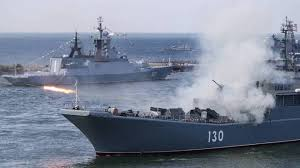tau_muctieu: (56, 68, 300, 150), (6, 27, 177, 87)
